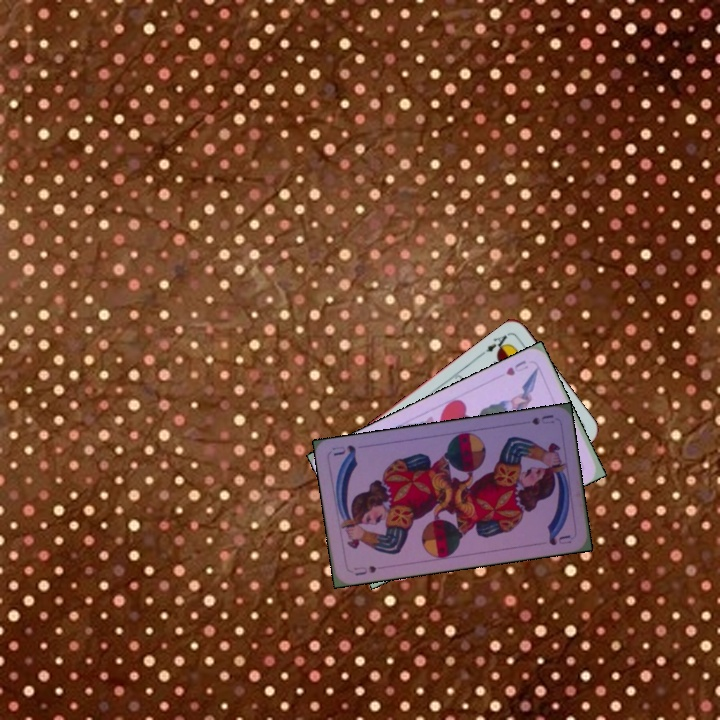EA: (481, 330, 512, 356)
HU: (502, 356, 531, 379)
SU: (528, 411, 557, 427), (350, 562, 379, 578)
